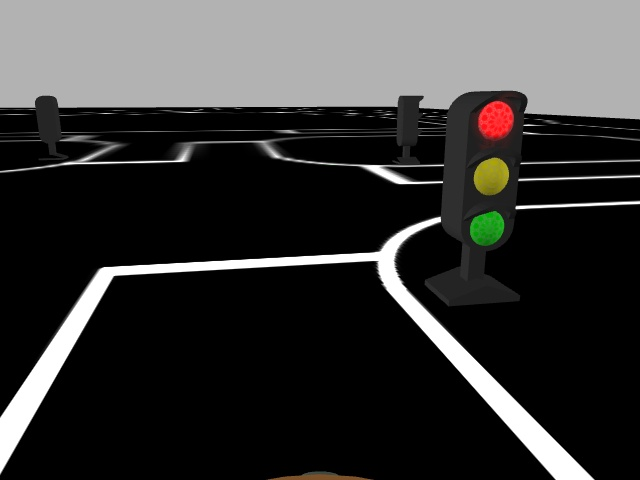red_light: (453, 89, 528, 251)
